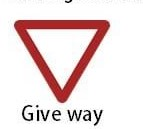Traffic signal: (13, 17, 111, 104)
